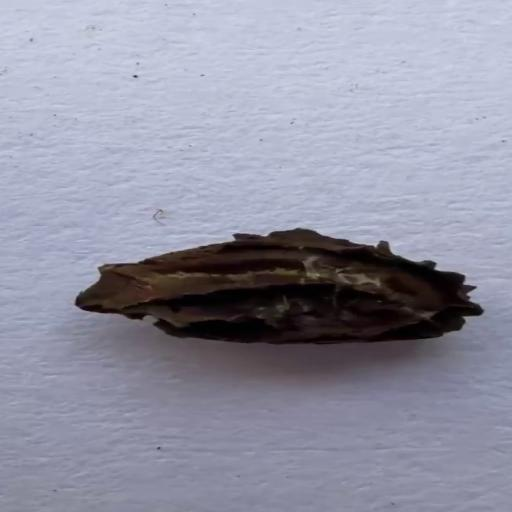papaya_seed: (74, 225, 484, 351)
